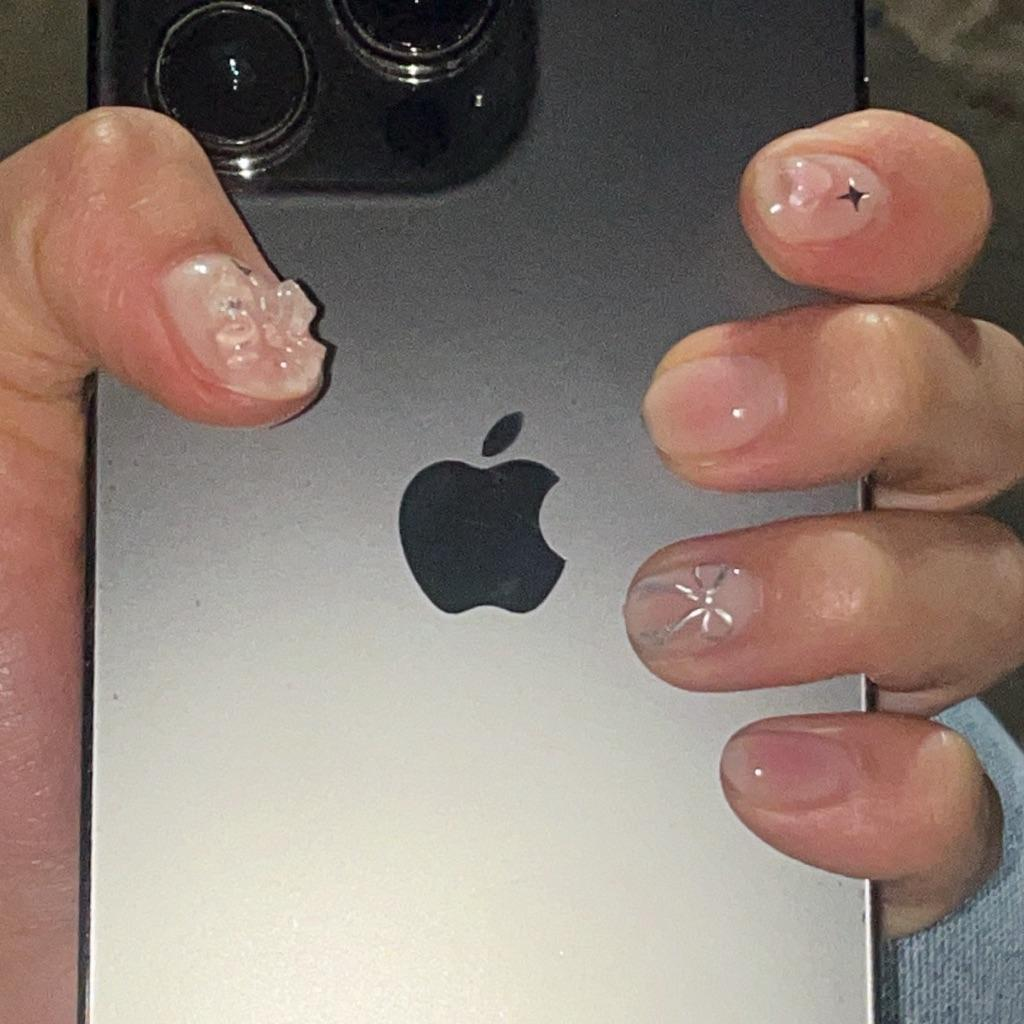nail: (717, 708, 991, 881)
